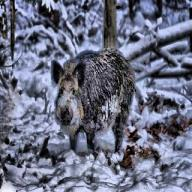boar: (50, 46, 136, 156)
